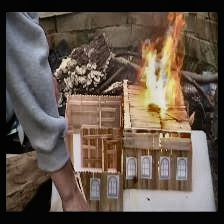fire: (138, 13, 191, 114)
